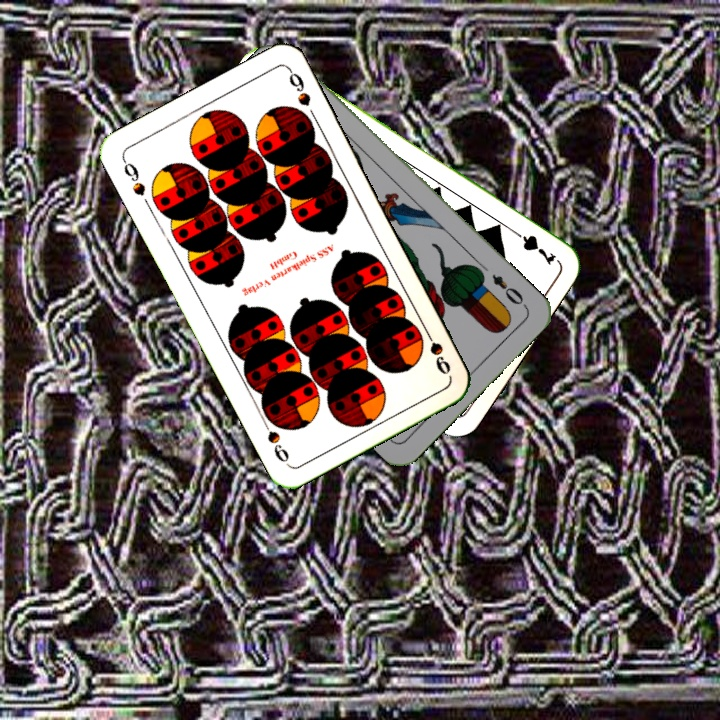EO: (487, 270, 530, 310)
G7: (506, 224, 559, 267)
S9: (419, 322, 454, 378), (118, 154, 149, 198)
